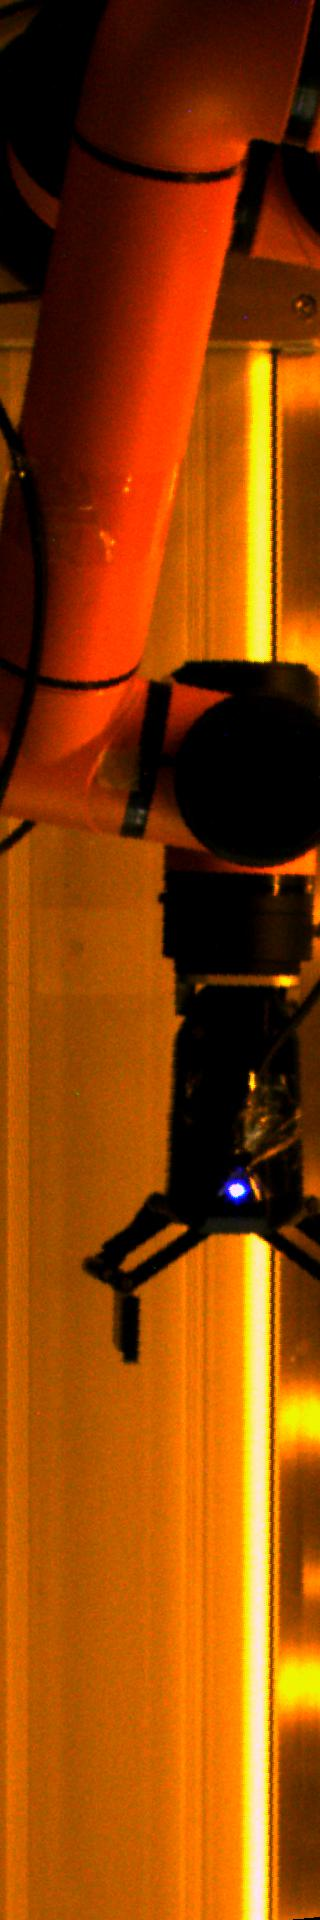keyPoint_1: (222, 1173, 253, 1202)
